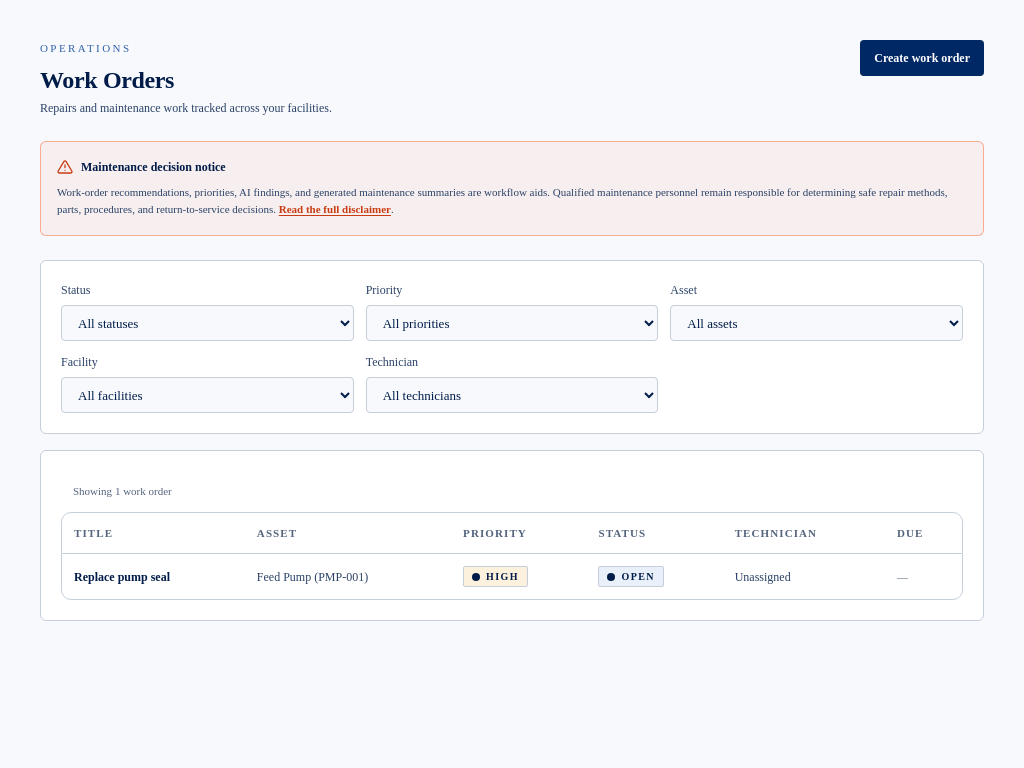
it: work orders page › clears all active filters
Expected: the text "Replace pump seal" is shown, [62,554,245,599]
Step 1. Select "Assigned" in the dropdown labelled "Status" → (207, 323), box [61,305,354,341]
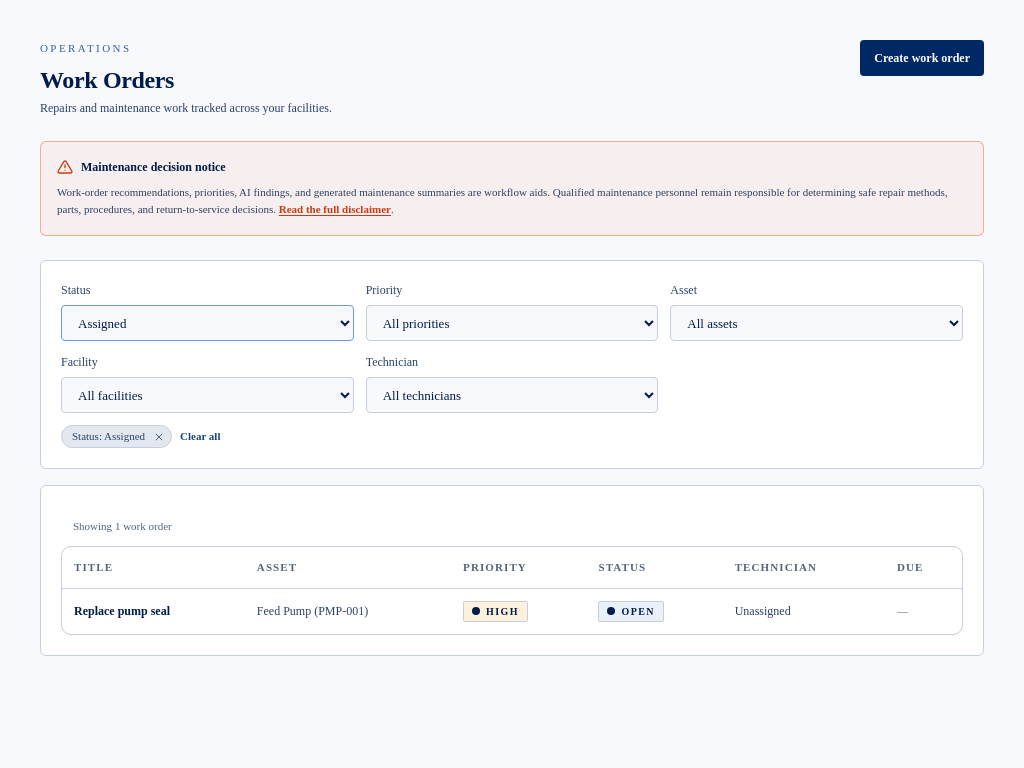
Now the text "Status: Assigned" is shown, box [61,425,172,448]
Step 2. Click the button "Clear all" → (200, 437), box [180,428,220,445]
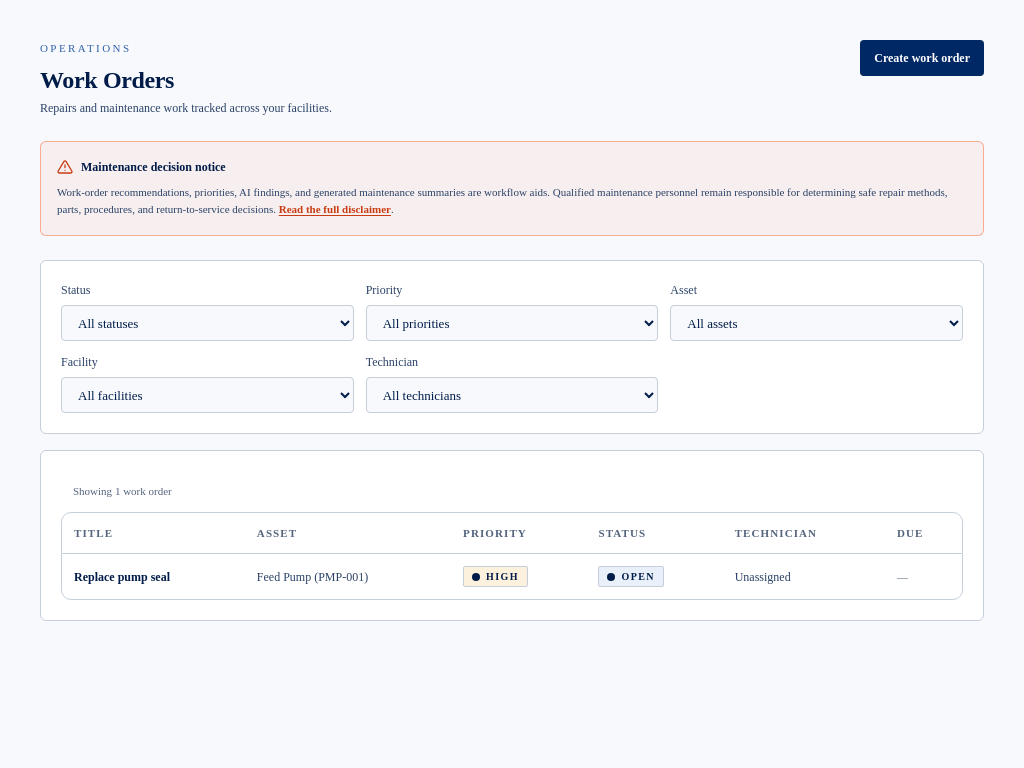
Now the text "Status: Assigned" is gone
